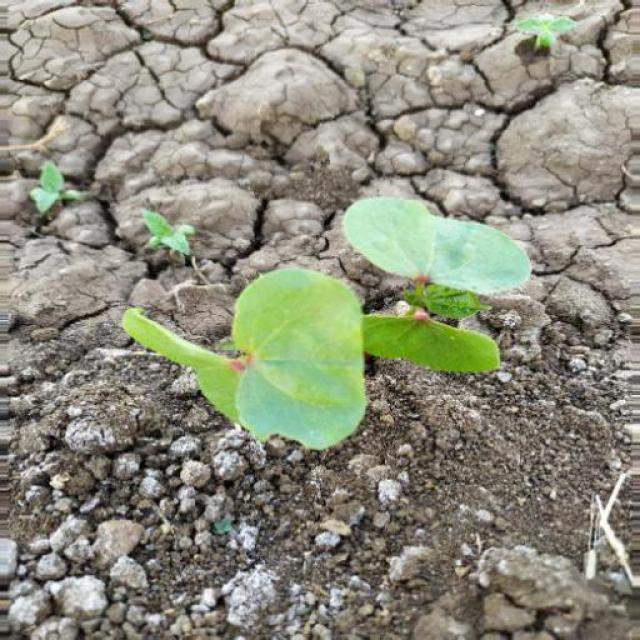weed: (106, 193, 532, 467)
